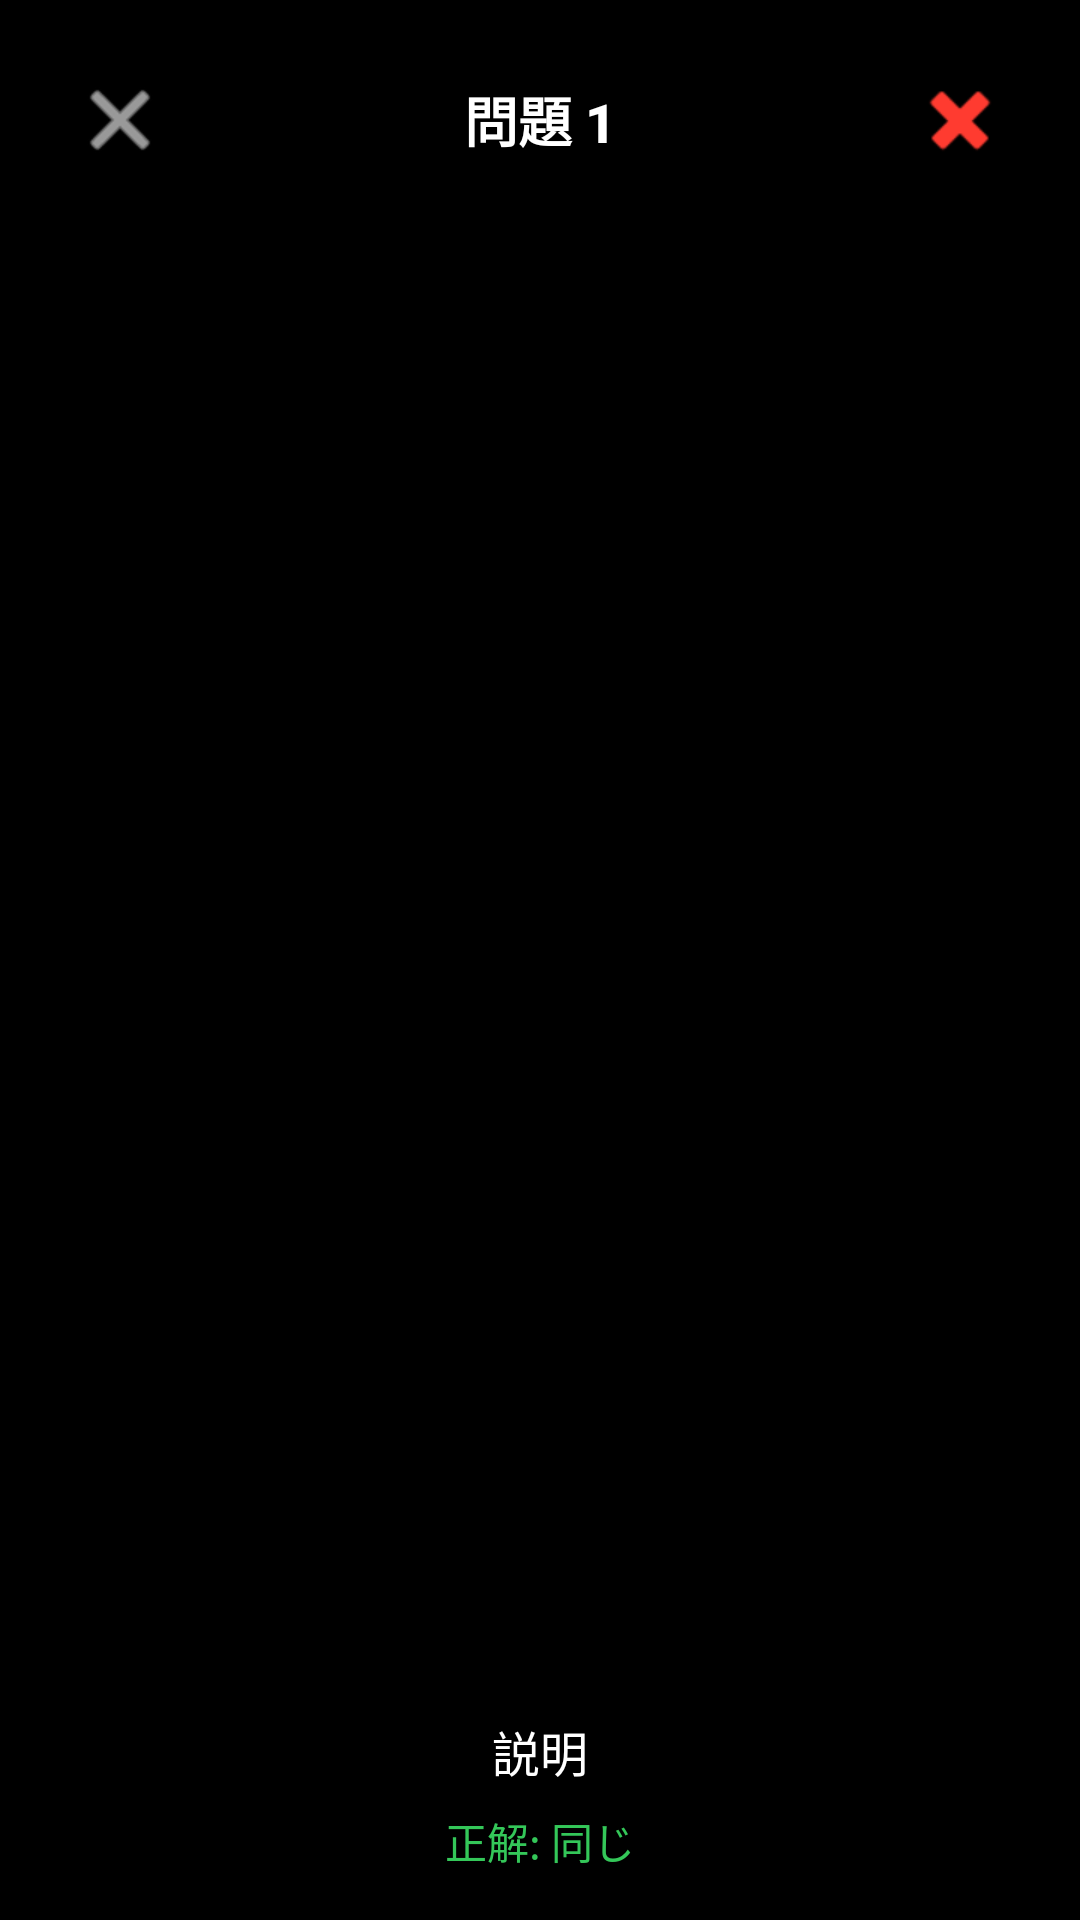

Named icons in this screenshot (1080 × 1920) and their bounding boxes, (x1, y1, x2, y2):
削除対象に追加: (929, 91, 991, 150)
閉じる: (90, 90, 150, 150)
